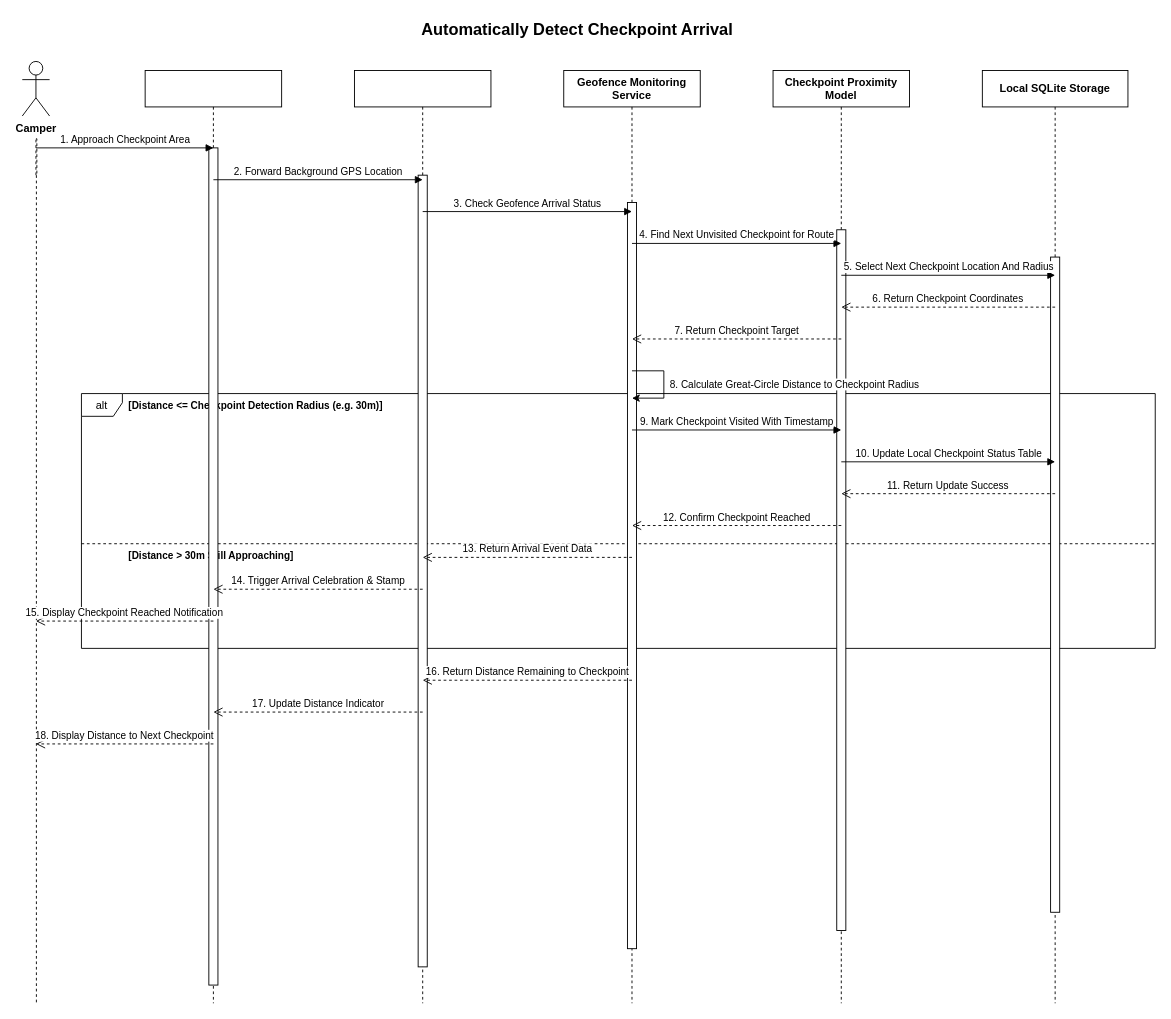
Image size: 1171x1019. Some labels were removed from this diagram. Here are the shapes that lost their labels. From the top down, the box of each, then its label:
(144, 70, 282, 1003): Mobile Checkpoint Screen
(354, 70, 491, 1003): Checkpoint Detection Controller
